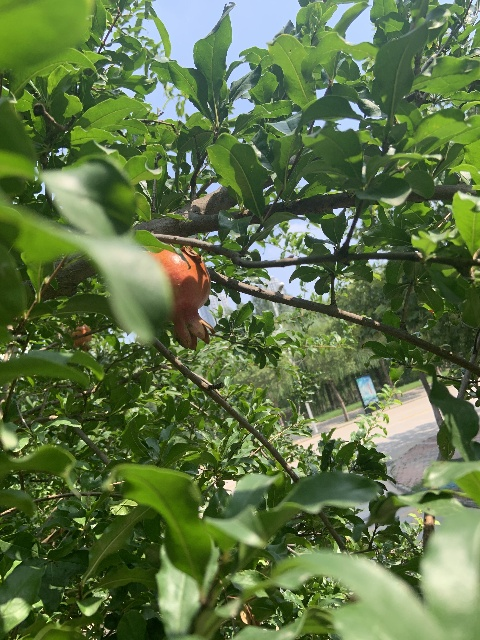ripe: (147, 249, 214, 351), (69, 323, 91, 353)
